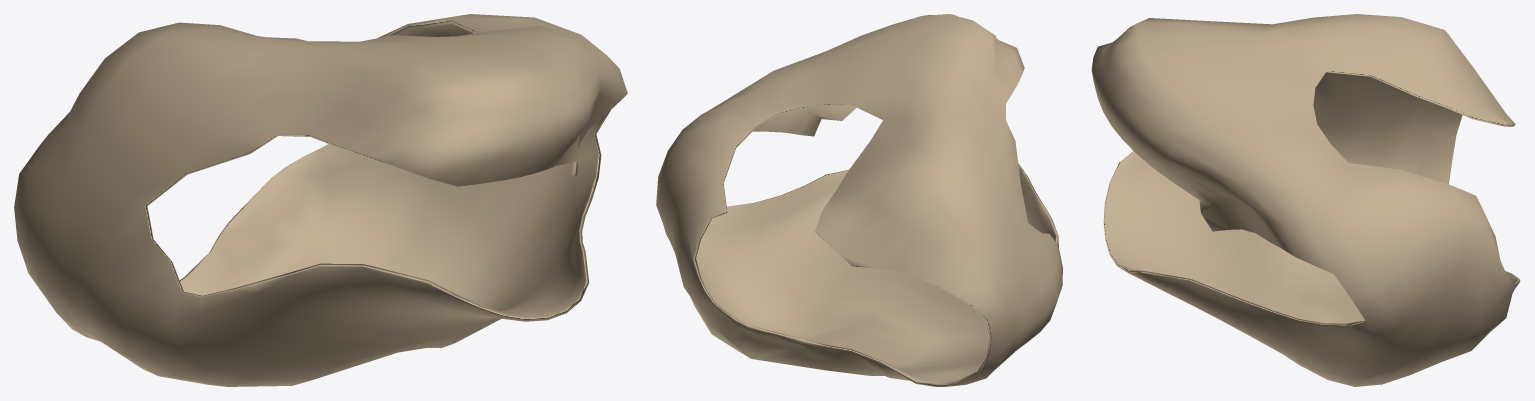
The picture shows the model from 3 angles, left to right: view 1: azimuth 30°, elevation 25°; view 2: azimuth 150°, elevation 25°; view 3: azimuth 270°, elevation 25°; orthographic projection. The views are drawn at different scales.
Visible parts, largest first — view 1: 右侧肘关节囊; view 2: 右侧肘关节囊; view 3: 右侧肘关节囊.
Part boxes in pixels (x1,y1,x2,y2): 右侧肘关节囊: (14, 14, 627, 386); 右侧肘关节囊: (656, 14, 1062, 386); 右侧肘关节囊: (1091, 14, 1520, 386).
Bounding box in the file's own units: 0.0901 × 0.0623 × 0.0784.
